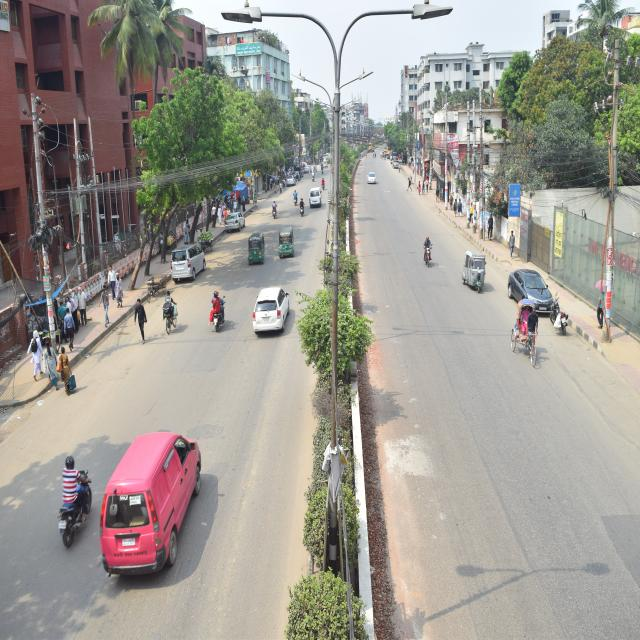car: (97, 416, 205, 583), (508, 250, 554, 320), (247, 283, 290, 339), (222, 202, 247, 248), (302, 186, 322, 217), (363, 171, 379, 190)
microbus: (164, 234, 213, 298)
motorbike: (51, 436, 96, 545), (202, 282, 236, 332), (546, 294, 573, 342), (419, 238, 436, 271), (267, 197, 284, 222), (294, 196, 311, 219), (289, 188, 298, 205)
